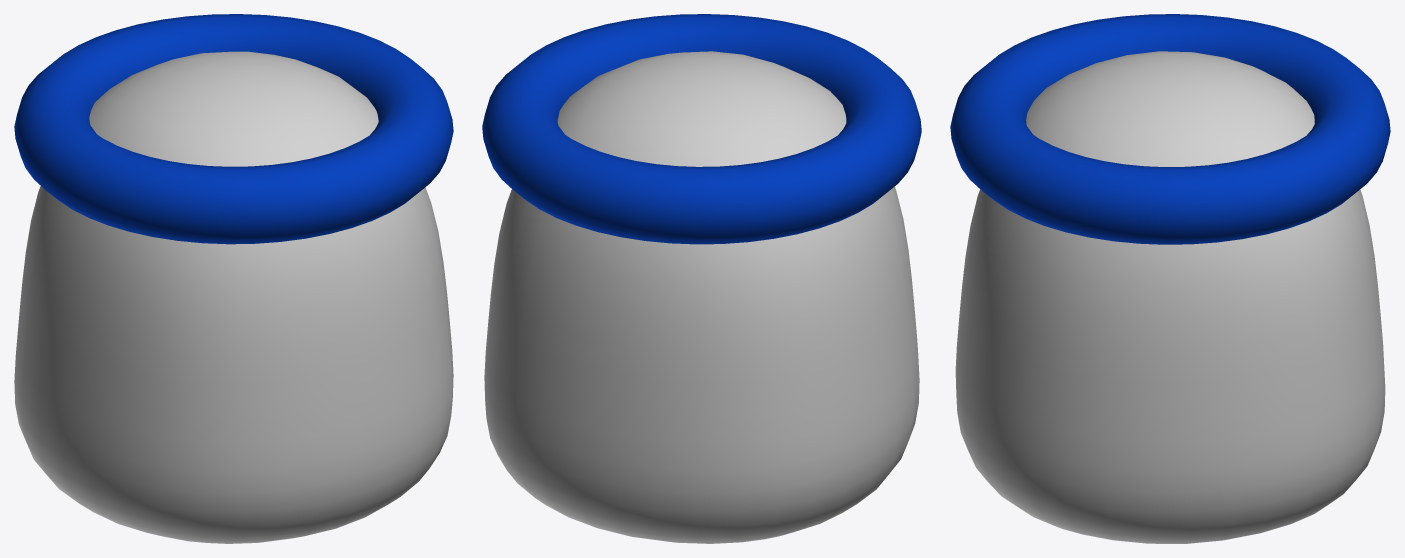
File: body.obj
The picture shows the model from 3 angles, left to right: view 1: azimuth 30°, elevation 25°; view 2: azimuth 150°, elevation 25°; view 3: azimuth 270°, elevation 25°; orthographic projection.
Parts seen in each view (by area): view 1: Torus.001; view 2: Torus.001; view 3: Torus.001.
Boxes of the visible parts, x1,y1,x2,y2 form: Torus.001: [14, 14, 453, 543]; Torus.001: [482, 14, 921, 543]; Torus.001: [950, 14, 1390, 543].
Size of the model in its own units: 0.4657 by 0.4962 by 0.4657.
